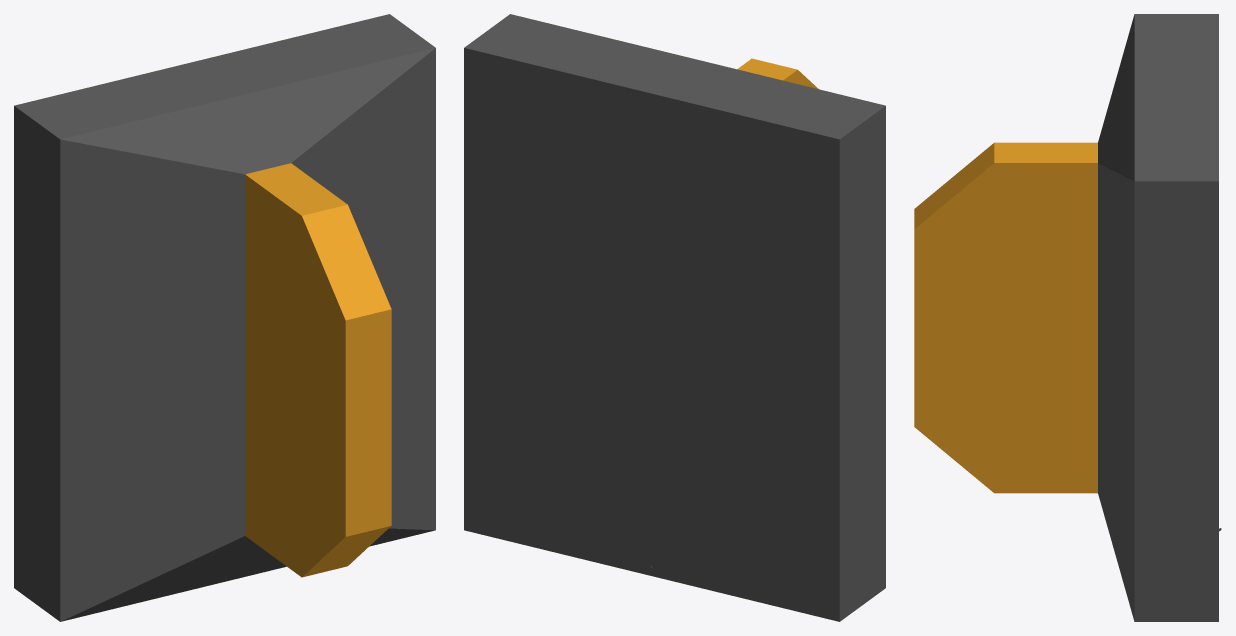
File: robotArm.fbx
3 views of the same model, side by side, from view 1: azimuth 30°, elevation 25°; view 2: azimuth 150°, elevation 25°; view 3: azimuth 270°, elevation 25° (orthographic). The views are drawn at different scales.
Parts seen in each view (by area): view 1: RobotArm; view 2: RobotArm; view 3: RobotArm.
Boxes of the visible parts, x1,y1,x2,y2 form: RobotArm: (14, 14, 435, 621); RobotArm: (464, 14, 885, 621); RobotArm: (914, 14, 1218, 621).
Bounding box in the file's own units: 19.43 × 15.07 × 23.85.
